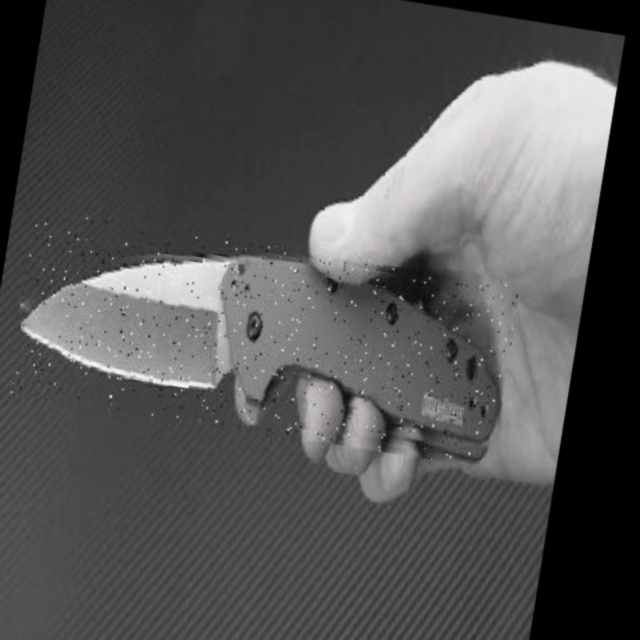Sharp-Object: (7, 210, 521, 469)
